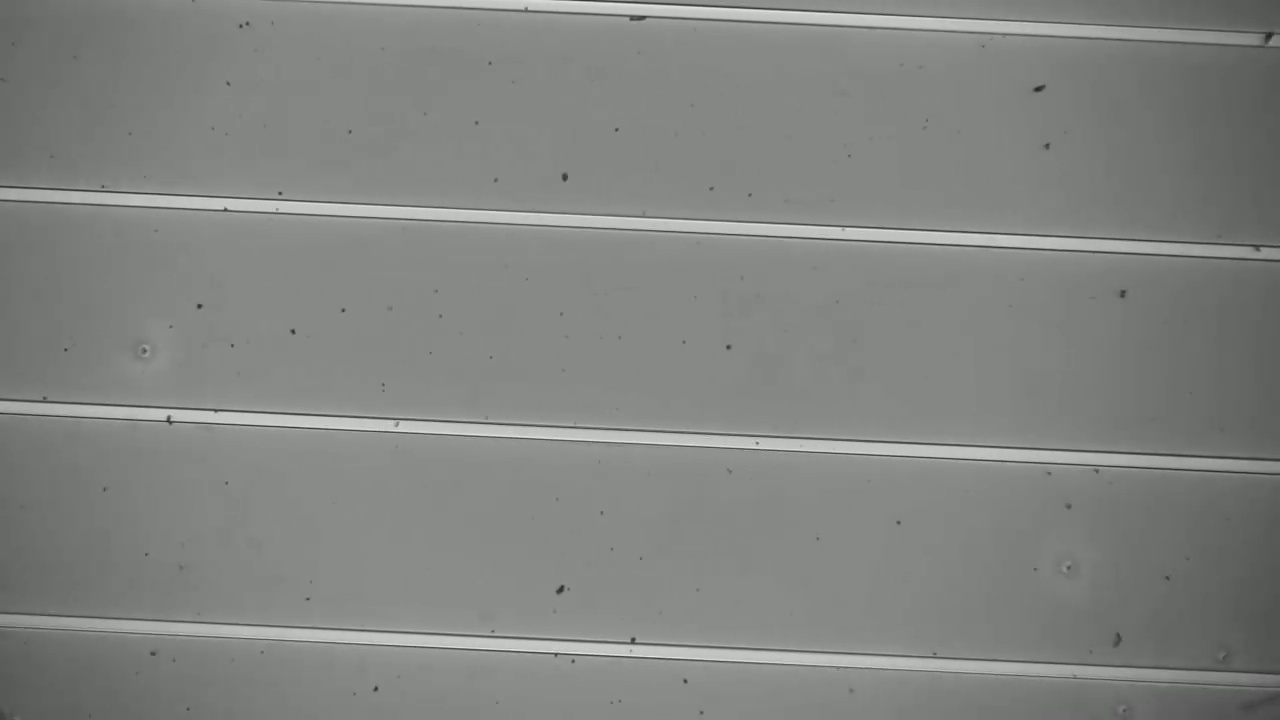stains_enbedded: (1252, 22, 1279, 56)
